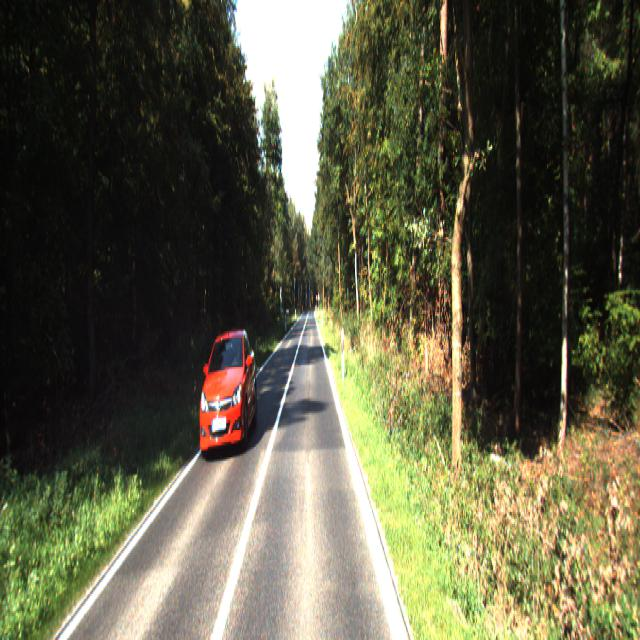Car: (195, 323, 259, 460)
